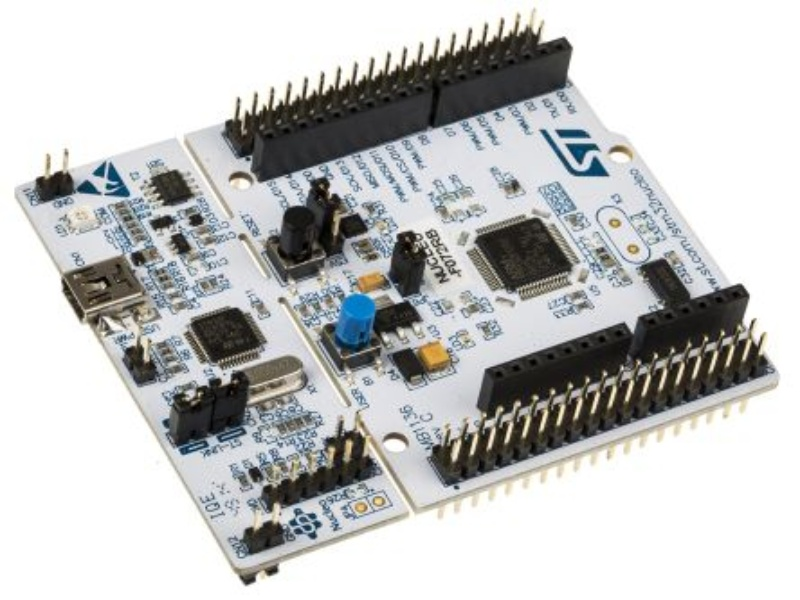stmnucleo: (10, 18, 785, 473)
